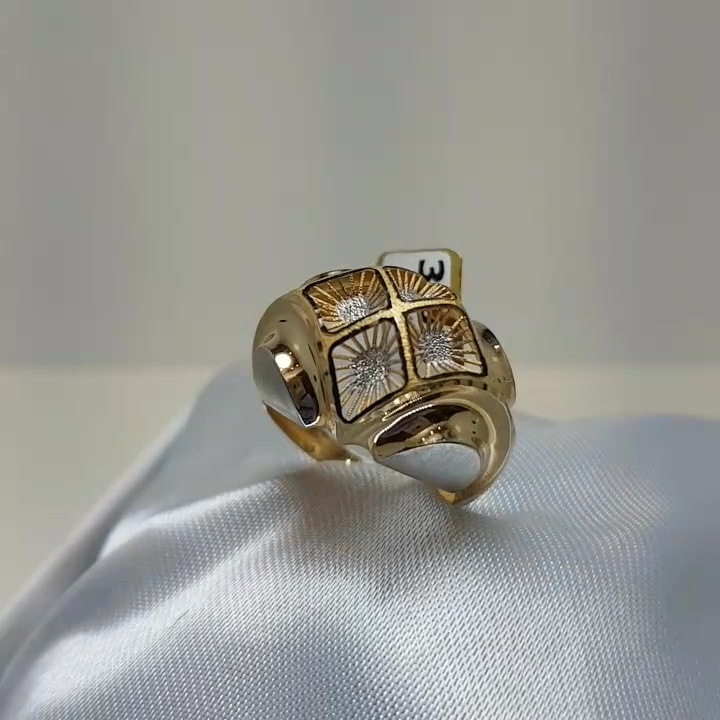Ring 2: (216, 248, 558, 523)
